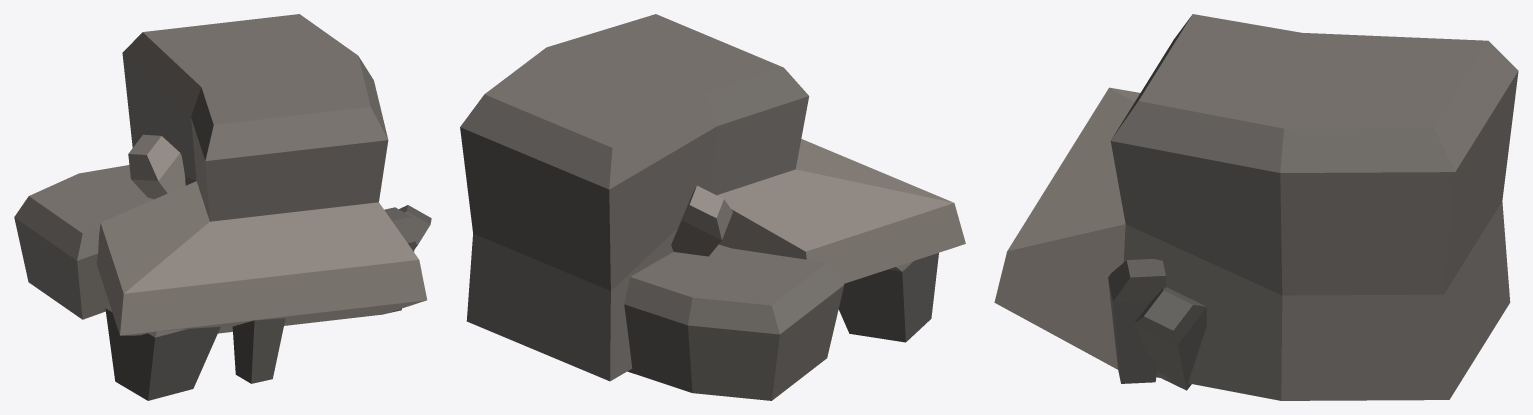
File: squarerock2.fbx
3 renders of one model, left to right at view 1: azimuth 30°, elevation 25°; view 2: azimuth 150°, elevation 25°; view 3: azimuth 270°, elevation 25°, orthographic. The views are drawn at different scales.
Visible parts, largest first — view 1: SquareRock2; view 2: SquareRock2; view 3: SquareRock2.
Boxes of the visible parts, <box> form: SquareRock2: <box>14,14,431,400</box>; SquareRock2: <box>460,14,965,400</box>; SquareRock2: <box>994,14,1518,400</box>.
Bounding box in the file's own units: 1.79 × 1.15 × 1.83.
